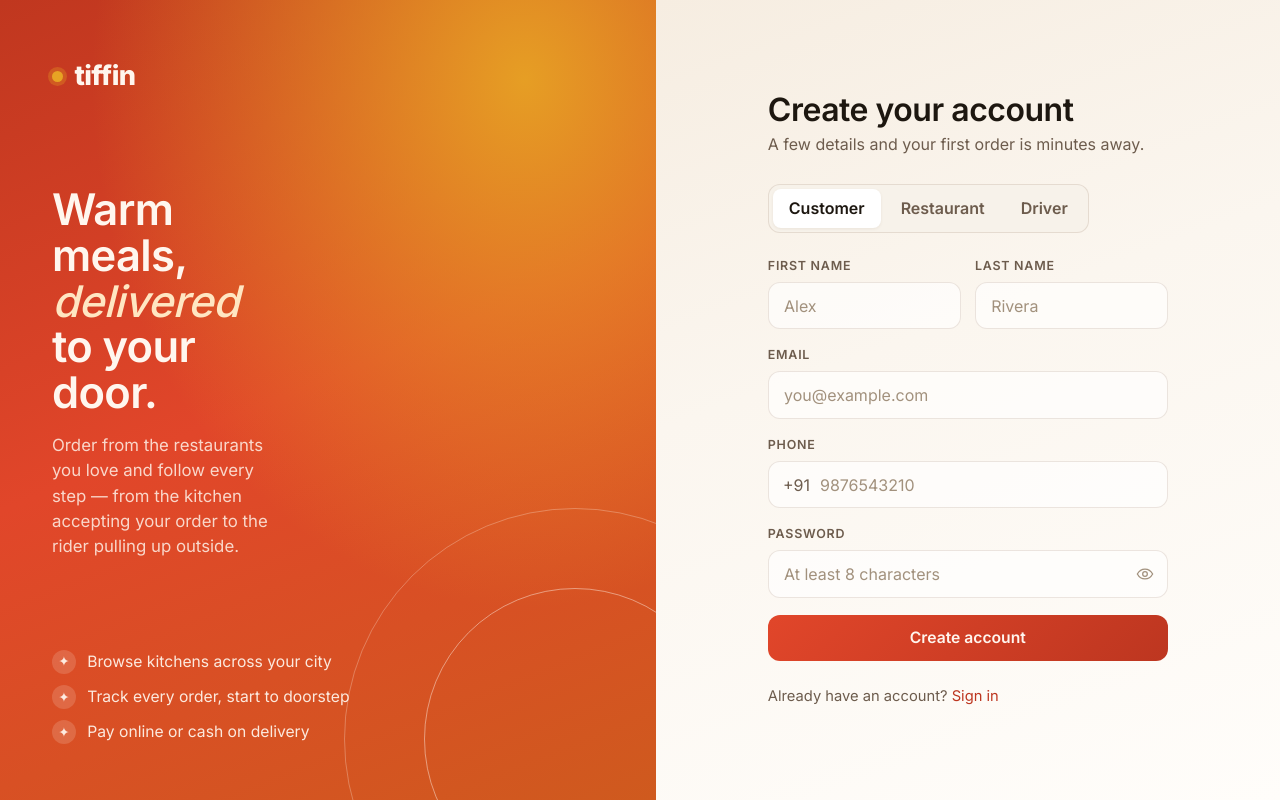
Test: RegisterPage input filtering › applies the same rules on the restaurant and driver tabs
The image size is (1280, 800).
Click the button "Driver" at (1044, 208), box [1005, 189, 1084, 228]
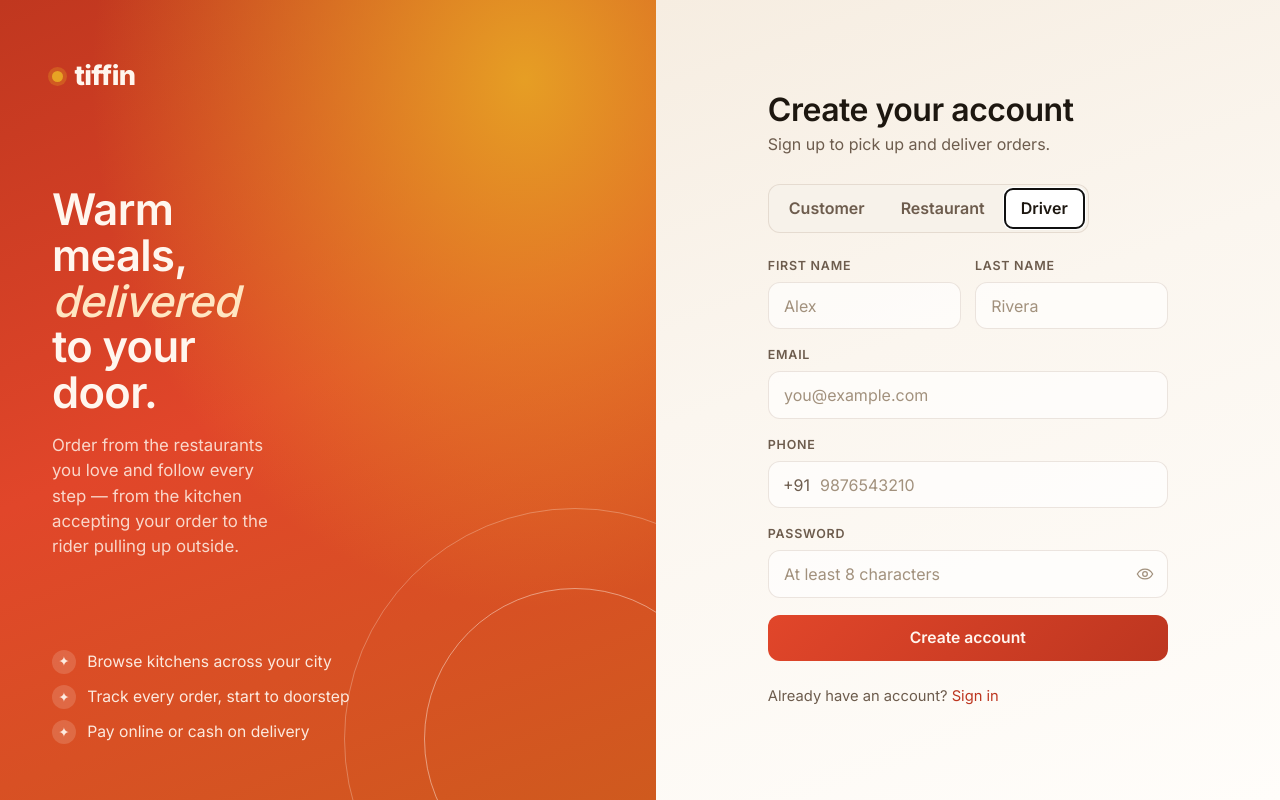
Type "Alex9" into the field labelled "First name" at (864, 306), box [768, 282, 961, 329]
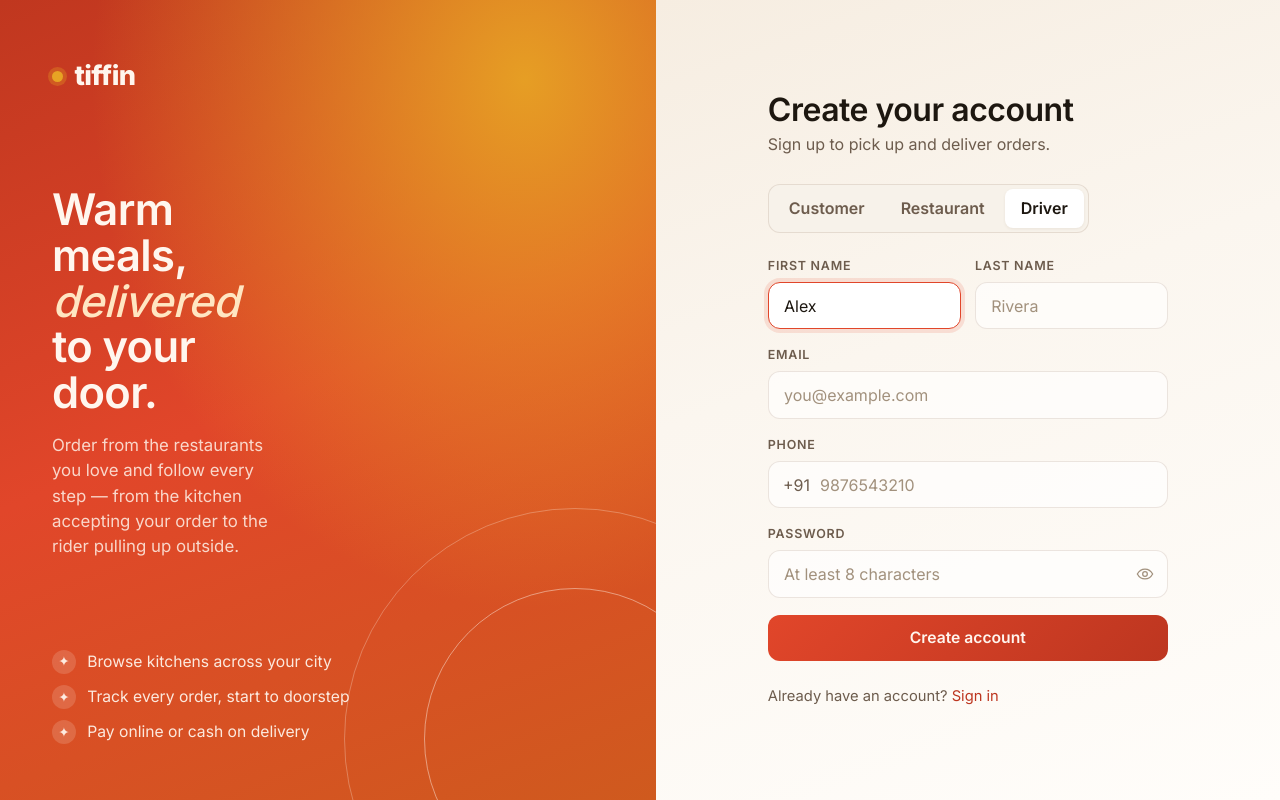
Check: the field labelled "First name" holds "Alex", box [768, 282, 961, 329]
